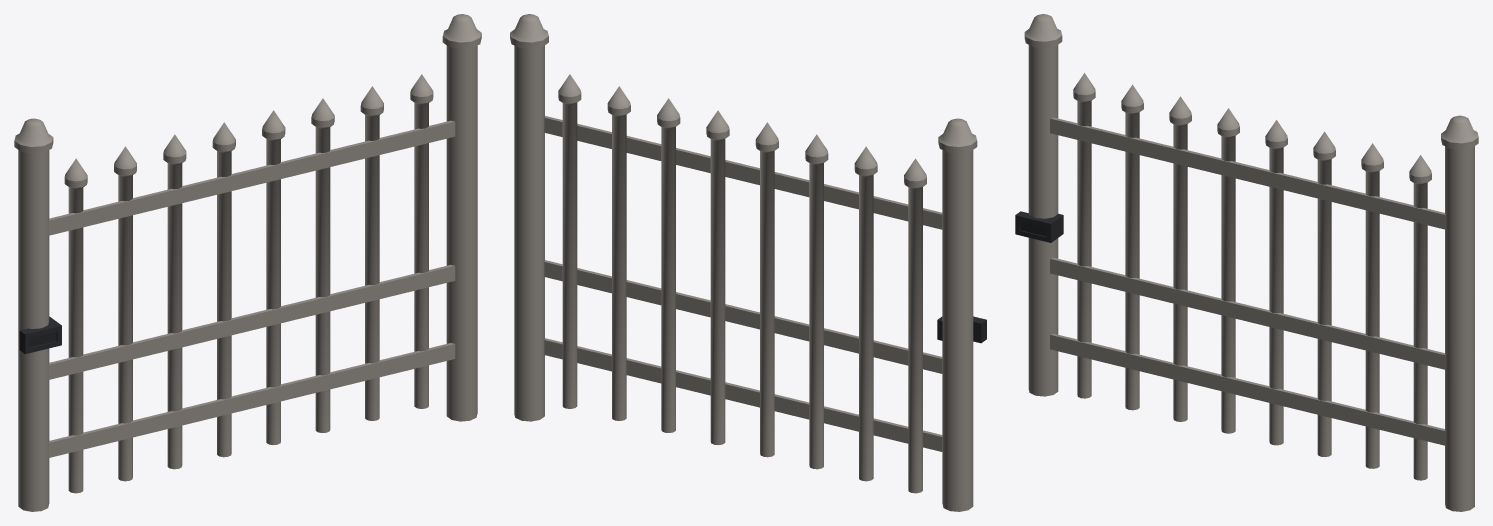
File: FenceDoorTile_2.fbx
3 renders of one model, left to right at view 1: azimuth 30°, elevation 25°; view 2: azimuth 150°, elevation 25°; view 3: azimuth 330°, elevation 25°, orthographic. The views are drawn at different scales.
Visible parts, largest first — view 1: FenceDoorTile_2; view 2: FenceDoorTile_2; view 3: FenceDoorTile_2.
Part boxes in pixels (left/top/right/bottom): FenceDoorTile_2: left=14, top=14, right=481, bottom=511; FenceDoorTile_2: left=510, top=14, right=986, bottom=511; FenceDoorTile_2: left=1015, top=14, right=1478, bottom=511.
Bounding box in the file's own units: 341 × 280 × 25.58.
